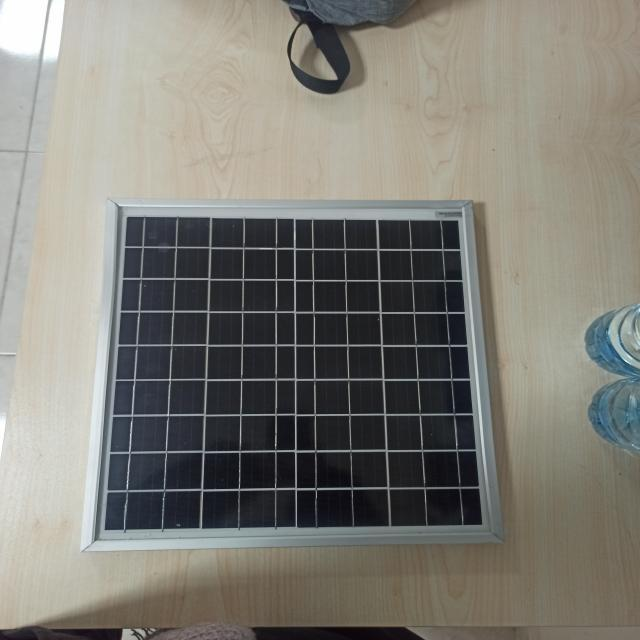no faulty: (111, 205, 491, 534)
